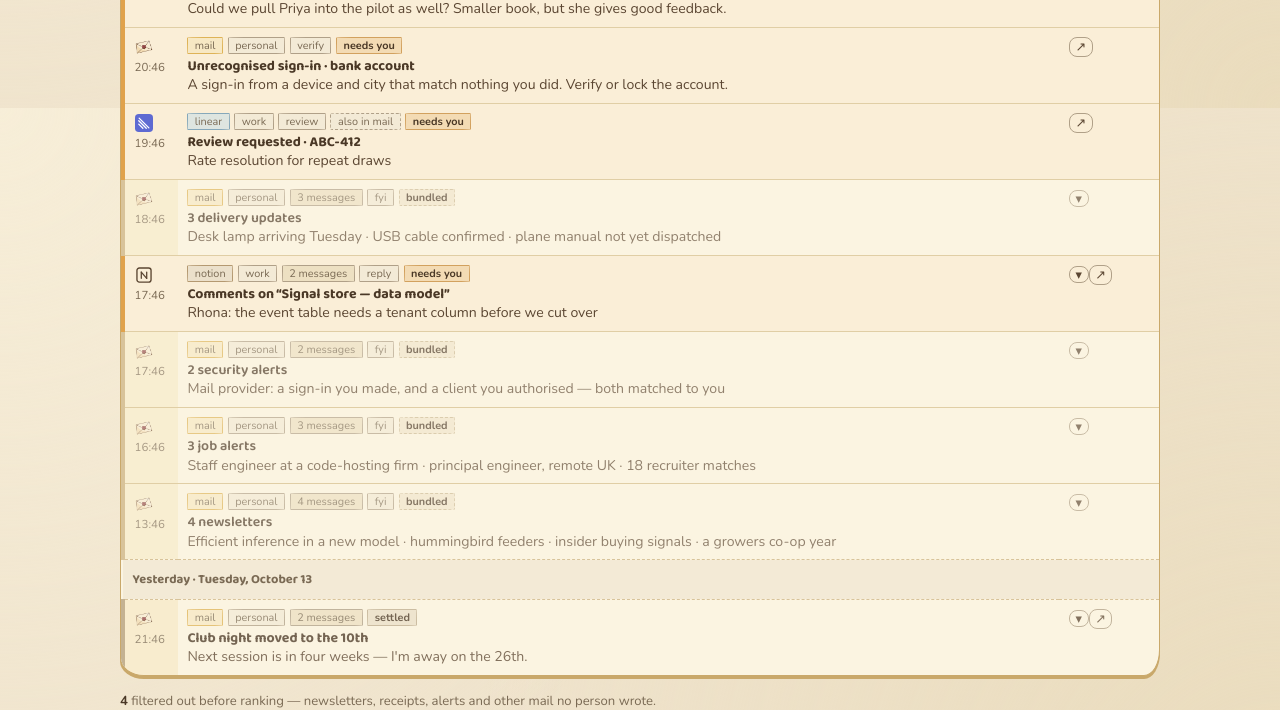
it: AlmonerPage › names the account a security event happened to, not just the sender
(page scrolled)
What coordinates should you click on to do the following:
click the button named "Show 2 messages in 2 security alerts"
I would click on:
 (1079, 350)
Its box is [1069,342,1088,359].
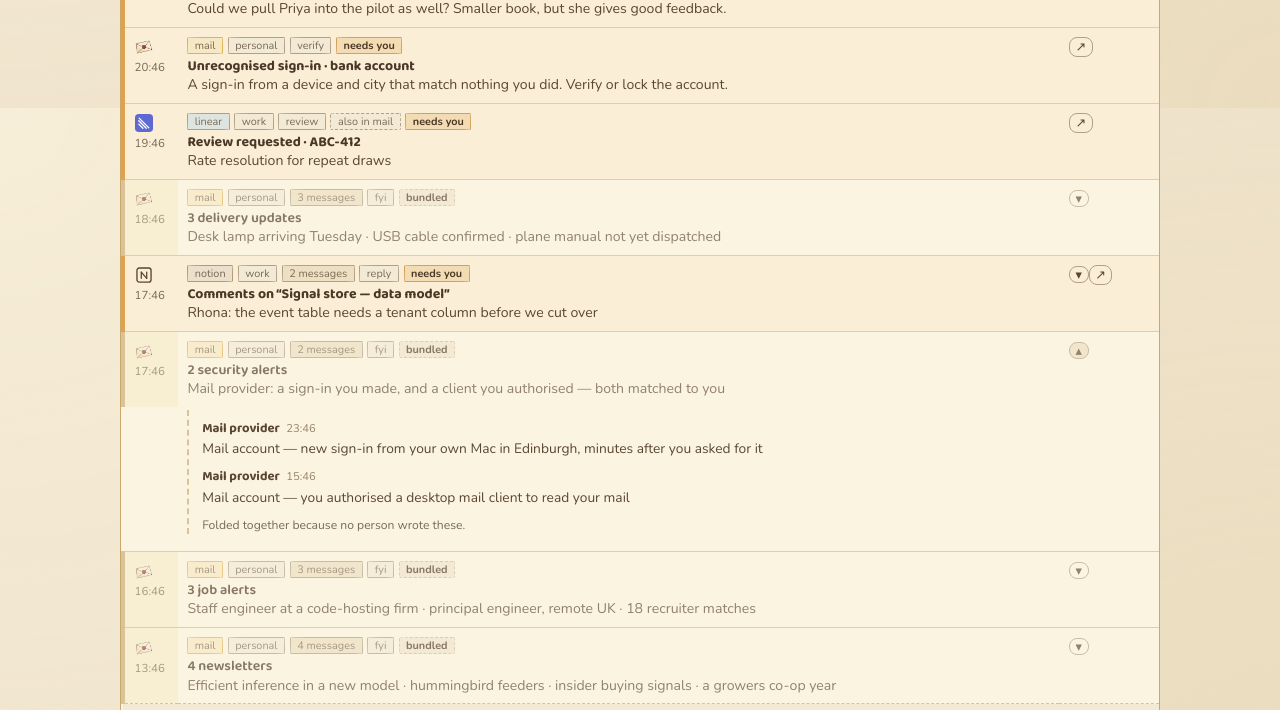
Check: the text "Mail account — new sign-in from your own Mac" is shown, box [202,439,763,458]
